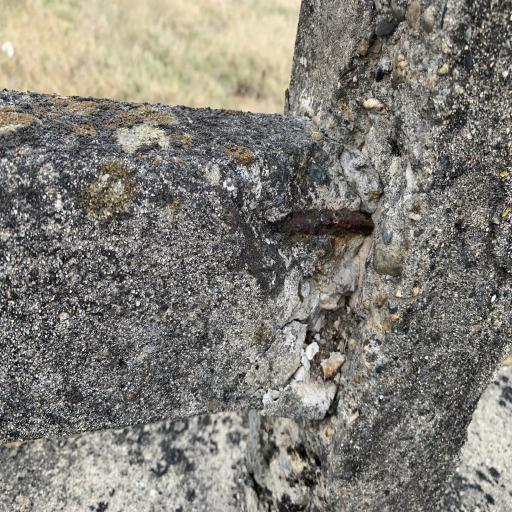exposed_rebar: (270, 210, 374, 236)
